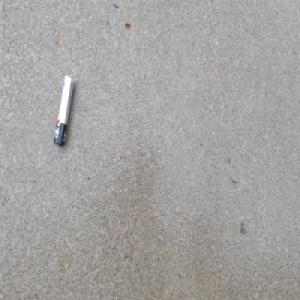Battery: (52, 74, 74, 148)
